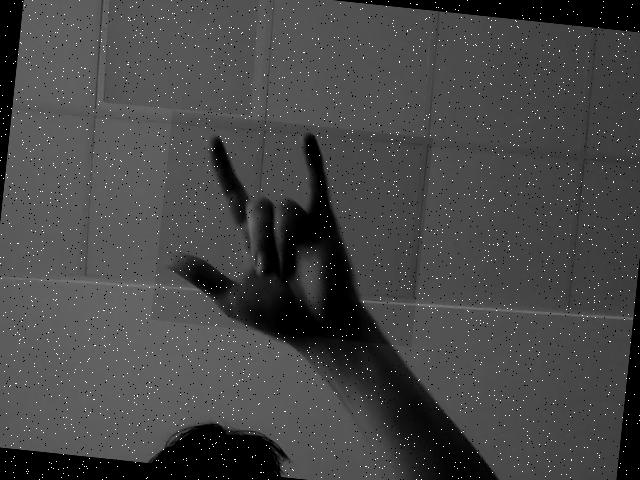I_Love_You: (150, 111, 434, 347)
